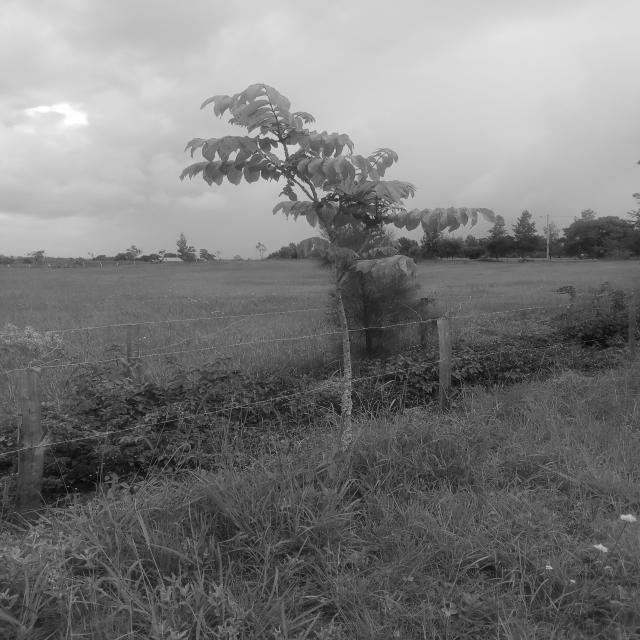Polyscias Kikuyensis: (183, 78, 504, 424)
